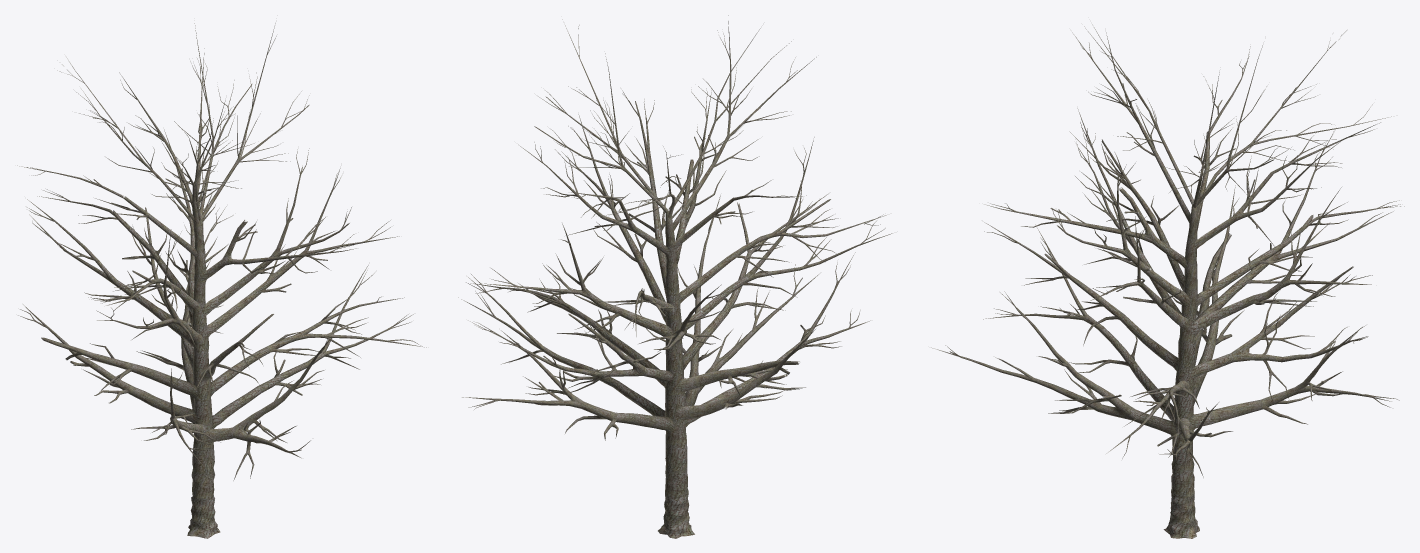
File: Bark.obj
The picture shows the model from 3 angles, left to right: view 1: azimuth 30°, elevation 25°; view 2: azimuth 150°, elevation 25°; view 3: azimuth 270°, elevation 25°; orthographic projection. The views are drawn at different scales.
Visible parts, largest first — view 1: AlanTree; view 2: AlanTree; view 3: AlanTree.
Boxes of the visible parts, box(x1,y1,x2,y2) form: AlanTree: box(17, 23, 426, 538); AlanTree: box(458, 15, 892, 538); AlanTree: box(931, 24, 1404, 538).
Bounding box in the file's own units: 1844 × 2277 × 1920.
2 materials, 1 textured.
